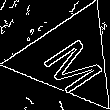M_NE: (32, 24, 106, 92)
